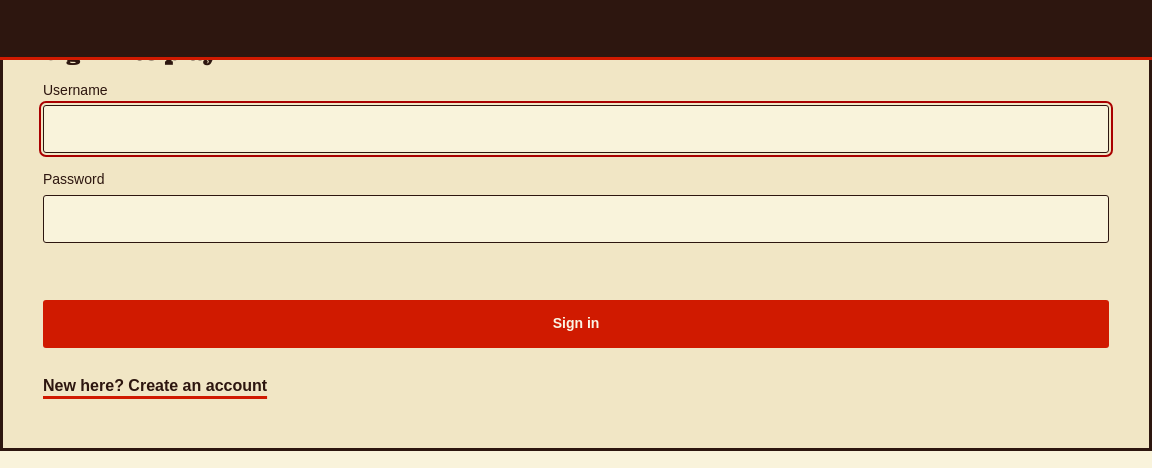
Test: AuthForm: signing in › asks for both fields when username is "" and password is ""
Click the button "Sign in" at x=576, y=324, box [43,300,1109,348]
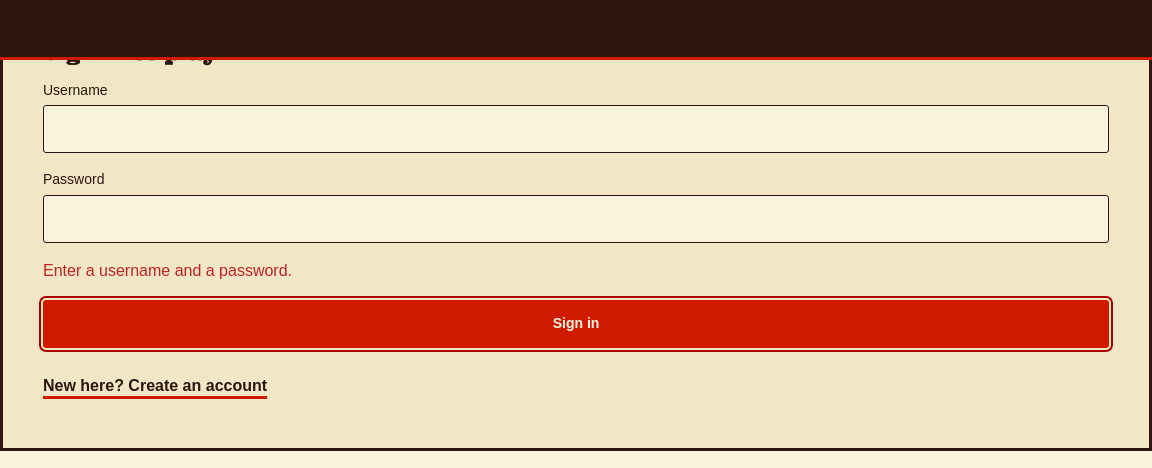
Check: the message reads "Enter a username and a password.", box [43,262,292,279]
